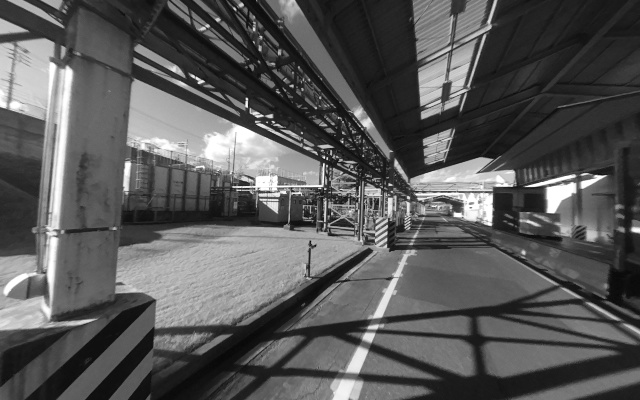bollard: (1, 298, 155, 400), (374, 216, 397, 250), (572, 225, 588, 244), (403, 213, 412, 231)
